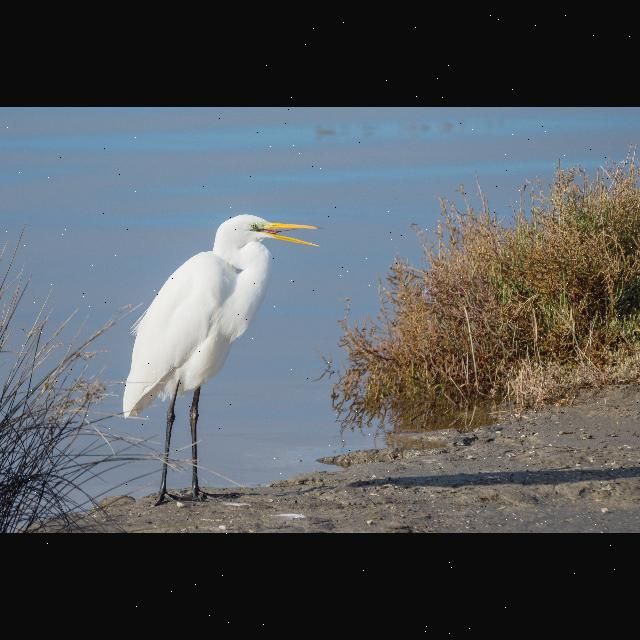egret: (118, 203, 322, 505)
